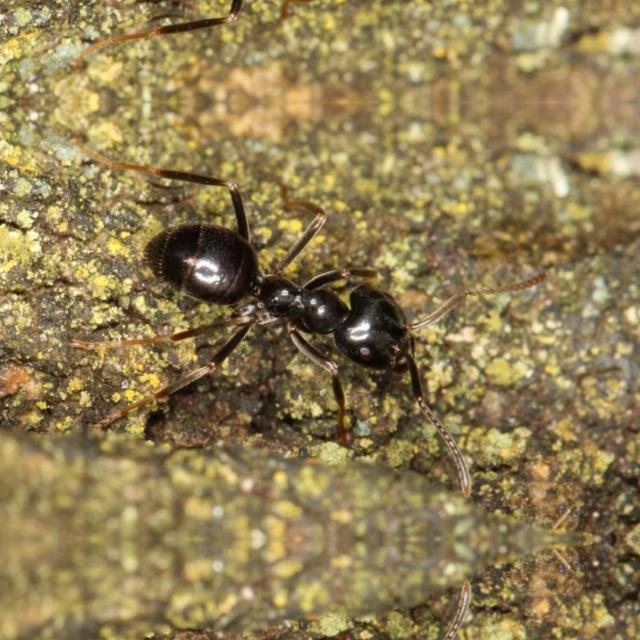Lasius: (124, 191, 474, 381)
